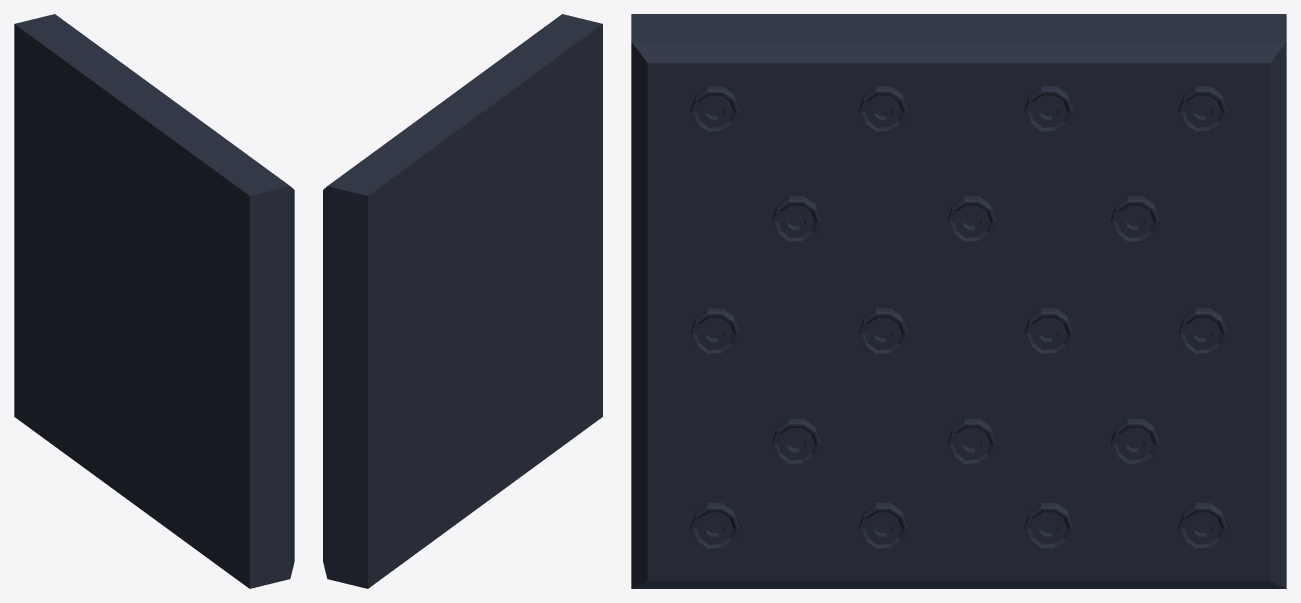
Rendered from dartTrapWall.obj.
The picture shows the model from 3 angles, left to right: view 1: azimuth 30°, elevation 25°; view 2: azimuth 150°, elevation 25°; view 3: azimuth 270°, elevation 25°; orthographic projection. The views are drawn at different scales.
Parts seen in each view (by area): view 1: polySurface1366; view 2: polySurface1366; view 3: polySurface1366.
Boxes of the visible parts, x1,y1,x2,y2 form: polySurface1366: [14, 14, 294, 588]; polySurface1366: [323, 14, 602, 588]; polySurface1366: [631, 14, 1286, 588].
Size of the model in its own units: 1.18 by 7.4 by 8.03.
1 material, 1 textured.
